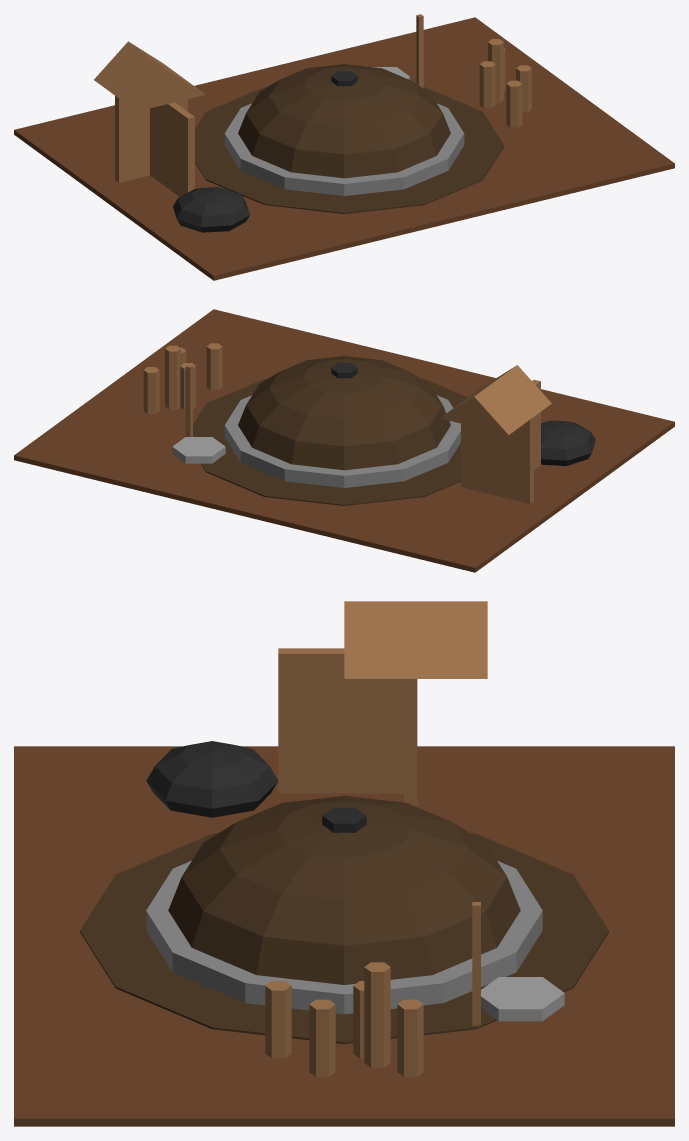
The model's file is charcoal_burner.glb.
3 views of the same model, one above another, from view 1: azimuth 30°, elevation 25°; view 2: azimuth 150°, elevation 25°; view 3: azimuth 270°, elevation 25° (orthographic). The views are drawn at different scales.
Parts seen in each view (by area): view 1: Ground, Mound, ScorchedGround, StoneRing, Shelter_Roof, Shelter_Side, CharcoalPile, Shelter_Back, Log_0, Log_2, Log_4, Rake (+1 smaller); view 2: Ground, Mound, ScorchedGround, StoneRing, Shelter_Back, Shelter_Roof, CharcoalPile, AshPile, Log_4, Log_0, Log_3, Rake (+2 smaller); view 3: Ground, Mound, ScorchedGround, Shelter_Side, StoneRing, Shelter_Roof, CharcoalPile, AshPile, Log_4, Log_1, Log_0, Log_3 (+4 smaller).
Part boxes in pixels (x1=…): Ground: x1=14, y1=17, x2=674, y2=280; Mound: x1=238, y1=64, x2=450, y2=178; ScorchedGround: x1=195, y1=86, x2=504, y2=213; StoneRing: x1=224, y1=103, x2=464, y2=195; Shelter_Roof: x1=94, y1=41, x2=205, y2=111; Shelter_Side: x1=150, y1=102, x2=194, y2=196; CharcoalPile: x1=173, y1=187, x2=249, y2=232; Shelter_Back: x1=115, y1=96, x2=187, y2=182; Log_0: x1=506, y1=80, x2=522, y2=127; Log_2: x1=479, y1=61, x2=495, y2=107; Log_4: x1=488, y1=39, x2=503, y2=102; Rake: x1=416, y1=14, x2=423, y2=88; Ground: x1=14, y1=309, x2=674, y2=572; Mound: x1=238, y1=356, x2=450, y2=470; ScorchedGround: x1=185, y1=378, x2=467, y2=505; StoneRing: x1=224, y1=395, x2=460, y2=487; Shelter_Back: x1=461, y1=417, x2=533, y2=503; Shelter_Roof: x1=440, y1=365, x2=551, y2=434; CharcoalPile: x1=541, y1=420, x2=595, y2=465; AshPile: x1=172, y1=437, x2=225, y2=463; Log_4: x1=165, y1=345, x2=180, y2=409; Log_0: x1=206, y1=343, x2=222, y2=390; Log_3: x1=143, y1=367, x2=159, y2=413; Rake: x1=185, y1=364, x2=192, y2=436; Ground: x1=14, y1=746, x2=674, y2=1126; Mound: x1=168, y1=796, x2=520, y2=984; ScorchedGround: x1=80, y1=833, x2=608, y2=1044; Shelter_Side: x1=278, y1=648, x2=403, y2=793; StoneRing: x1=146, y1=860, x2=542, y2=1014; Shelter_Roof: x1=344, y1=601, x2=487, y2=678; CharcoalPile: x1=146, y1=741, x2=277, y2=817; AshPile: x1=481, y1=977, x2=564, y2=1021; Log_4: x1=364, y1=962, x2=390, y2=1067; Log_1: x1=309, y1=999, x2=335, y2=1076; Log_0: x1=265, y1=981, x2=291, y2=1058; Log_3: x1=397, y1=999, x2=423, y2=1076.
Bounding box in the file's own units: 4 × 1.29 × 3.
